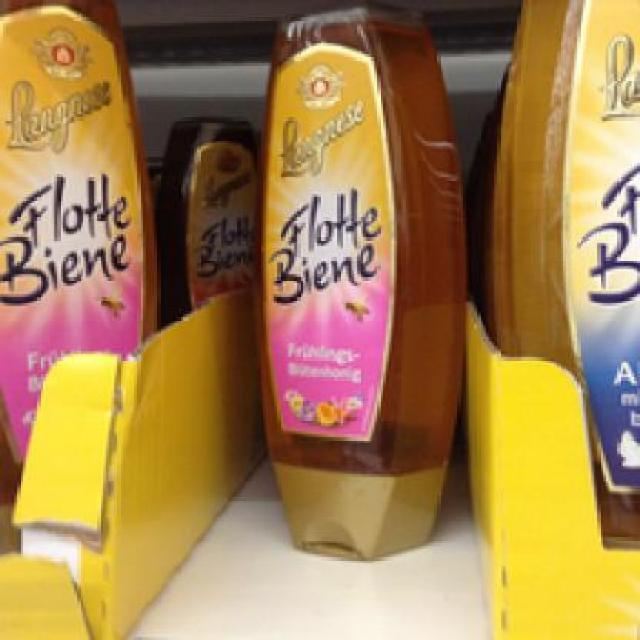Honey: (257, 6, 474, 566), (0, 3, 155, 504)
